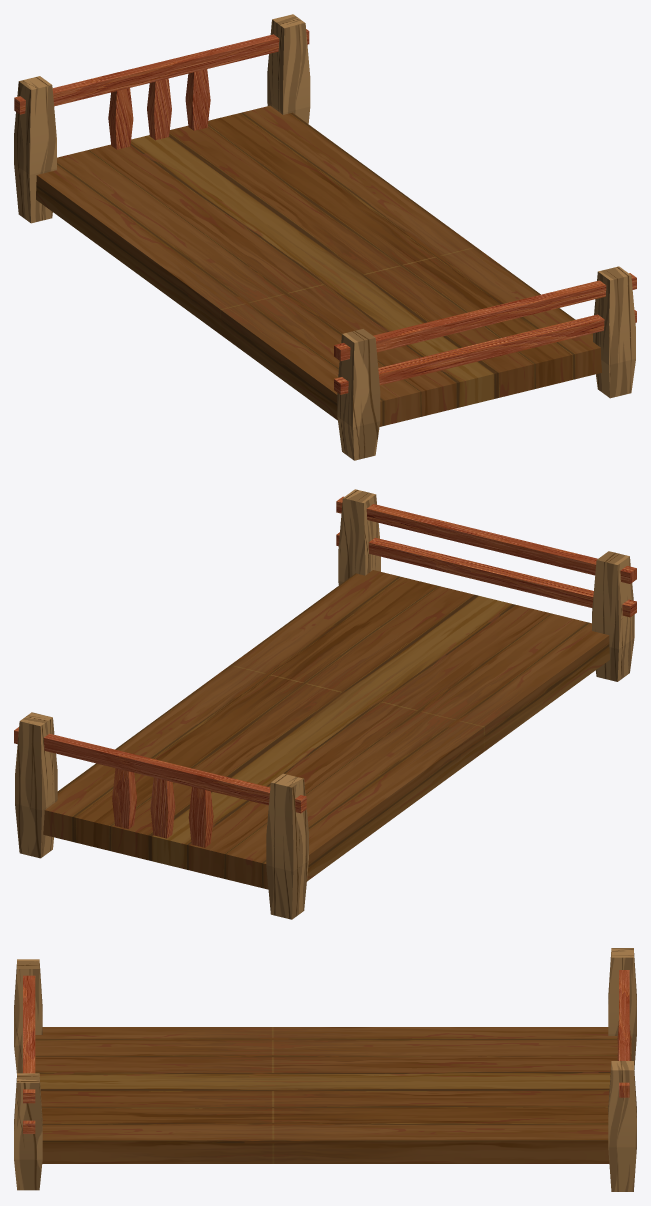
Rendered from Lit_tang.fbx.
3 views of the same model, one above another, from view 1: azimuth 30°, elevation 25°; view 2: azimuth 150°, elevation 25°; view 3: azimuth 270°, elevation 25° (orthographic). The views are drawn at different scales.
Visible parts, largest first — view 1: lit_tang; view 2: lit_tang; view 3: lit_tang.
Boxes of the visible parts, left/top/right/bottom form: lit_tang: left=14, top=14, right=636, bottom=460; lit_tang: left=14, top=489, right=636, bottom=919; lit_tang: left=14, top=948, right=636, bottom=1191.
Size of the model in its own units: 102 by 43.99 by 204.
Materials: 1 (1 with a texture image).
